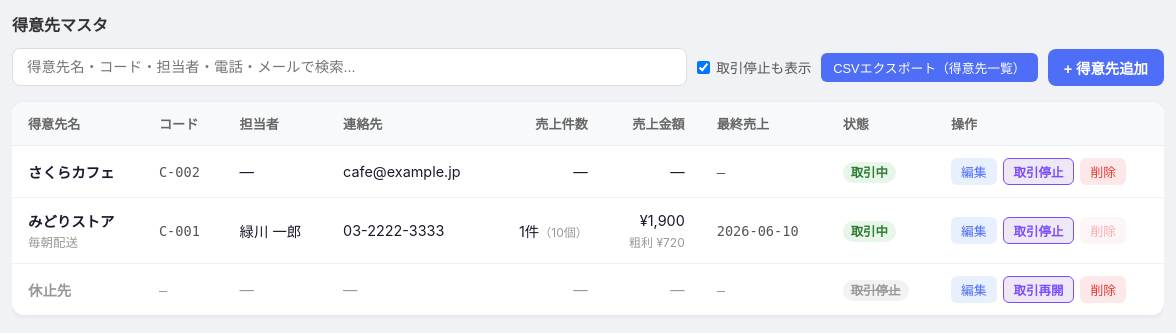
Scenario: CustomerMasterView › 取引停止を隠せる
Step 1. Click the checkbox labelled "取引停止も表示" → (704, 67), box [697,60,710,74]
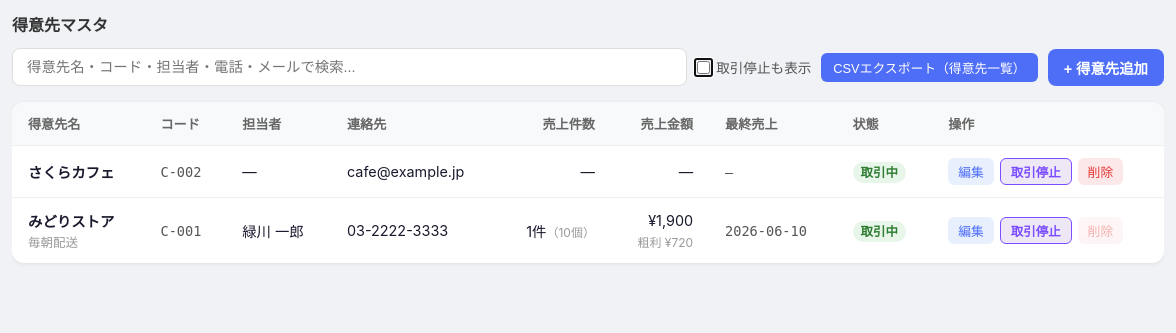
Expected: the text "休止先" is gone
